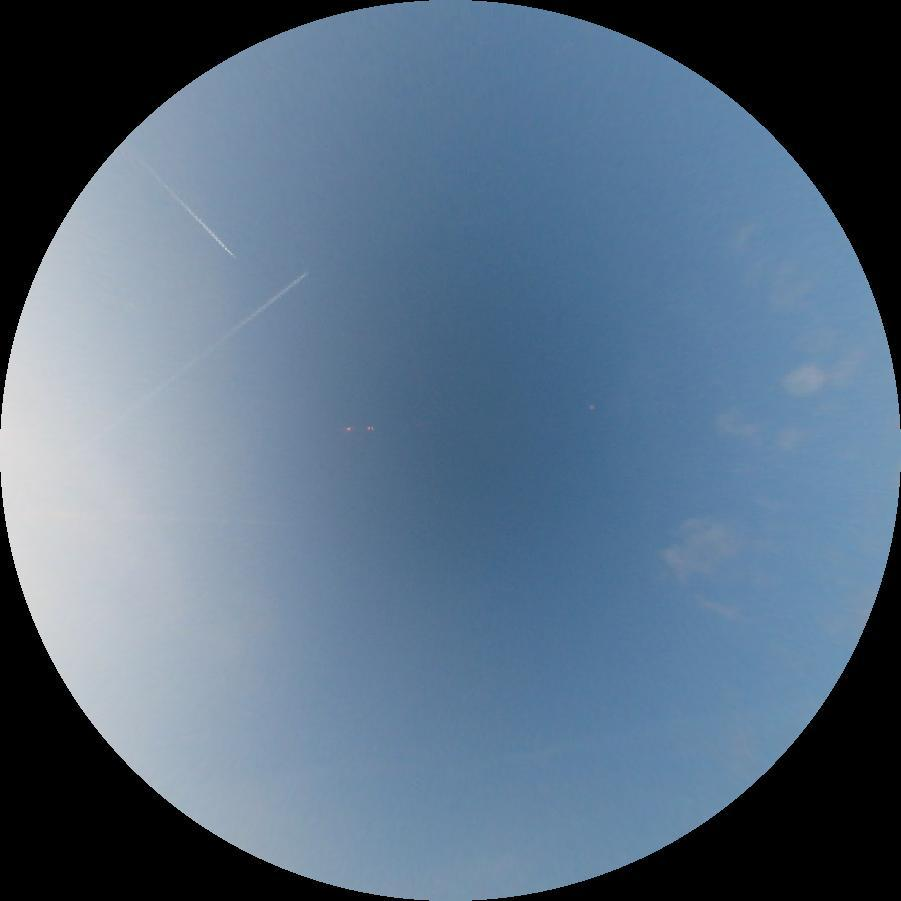contrail young: (141, 270, 311, 404), (151, 176, 236, 257)
